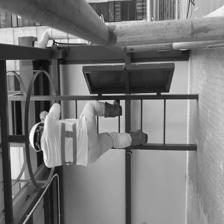Feet: (99, 89, 124, 125), (126, 125, 150, 151)
Hand: (36, 99, 68, 121)
Ladder: (8, 93, 193, 155)
